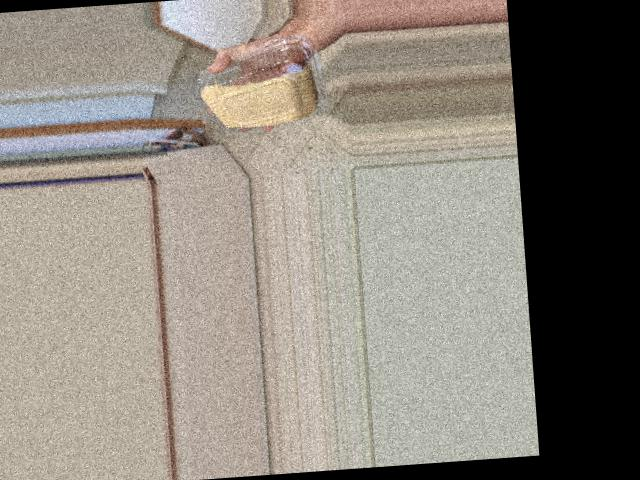cheese: (223, 57, 334, 118)
